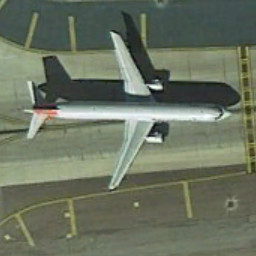Airplane: (21, 23, 238, 208)
